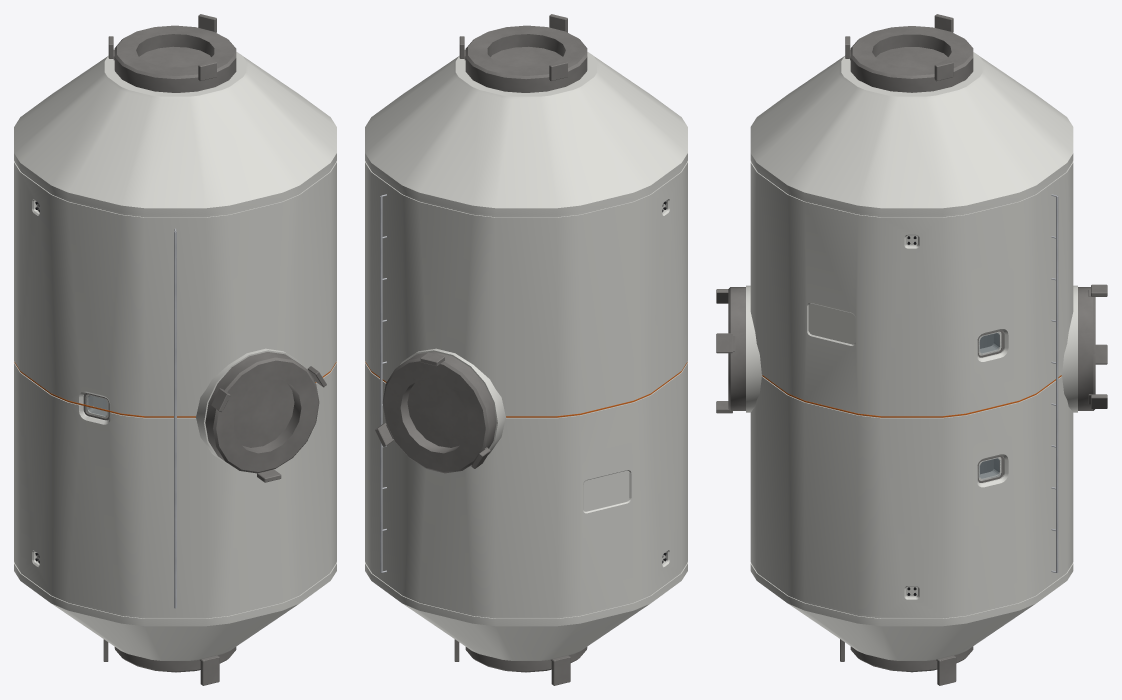
Rendered from ax_station_01_core_hab.glb.
3 views of the same model, side by side, from view 1: azimuth 30°, elevation 25°; view 2: azimuth 150°, elevation 25°; view 3: azimuth 270°, elevation 25° (orthographic).
Parts seen in each view (by area): view 1: pressure_hull, port_2, port_top, hatch_door_4, handrails, hatch_door_2, port_2_pedestal, port_bottom, port_top_petals, port_2_petals, port_bottom_petals; view 2: pressure_hull, port_1, port_top, hatch_door_3, handrails, hatch_door_2, port_1_pedestal, port_bottom, port_top_petals, port_1_petals, port_bottom_petals; view 3: pressure_hull, port_top, port_2, port_1, port_1_pedestal, port_2_pedestal, handrails, hatch_door_2, port_bottom, port_1_petals, port_2_petals, port_top_petals (+3 smaller).
Boxes of the visible parts, left/top/right/bottom form: pressure_hull: left=14, top=52, right=336, bottom=660; port_2: left=205, top=352, right=319, bottom=473; port_top: left=114, top=25, right=236, bottom=92; hatch_door_4: left=234, top=379, right=294, bottom=447; handrails: left=174, top=228, right=176, bottom=608; hatch_door_2: left=139, top=46, right=211, bottom=67; port_2_pedestal: left=195, top=348, right=301, bottom=466; port_bottom: left=114, top=647, right=236, bottom=672; port_top_petals: left=108, top=14, right=216, bottom=80; port_2_petals: left=211, top=366, right=326, bottom=482; port_bottom_petals: left=103, top=639, right=219, bottom=685; pressure_hull: left=365, top=52, right=687, bottom=660; port_1: left=382, top=352, right=496, bottom=473; port_top: left=465, top=25, right=587, bottom=92; hatch_door_3: left=407, top=379, right=467, bottom=447; handrails: left=380, top=194, right=386, bottom=573; hatch_door_2: left=490, top=46, right=562, bottom=67; port_1_pedestal: left=400, top=348, right=506, bottom=466; port_bottom: left=465, top=647, right=587, bottom=672; port_top_petals: left=459, top=14, right=567, bottom=80; port_1_petals: left=375, top=352, right=490, bottom=468; port_bottom_petals: left=454, top=639, right=570, bottom=685; pressure_hull: left=750, top=52, right=1073, bottom=660; port_top: left=850, top=26, right=973, bottom=92; port_2: left=728, top=287, right=745, bottom=410; port_1: left=1078, top=287, right=1095, bottom=410; port_1_pedestal: left=1061, top=285, right=1077, bottom=412; port_2_pedestal: left=746, top=285, right=762, bottom=412; handrails: left=1051, top=194, right=1058, bottom=573; hatch_door_2: left=875, top=47, right=948, bottom=67; port_bottom: left=850, top=646, right=973, bottom=672; port_1_petals: left=1088, top=284, right=1107, bottom=408; port_2_petals: left=716, top=289, right=735, bottom=413; port_top_petals: left=845, top=14, right=953, bottom=81.
Size of the model in its own units: 4.2 by 8.87 by 5.09.
Materials: 6 (2 with a texture image).
